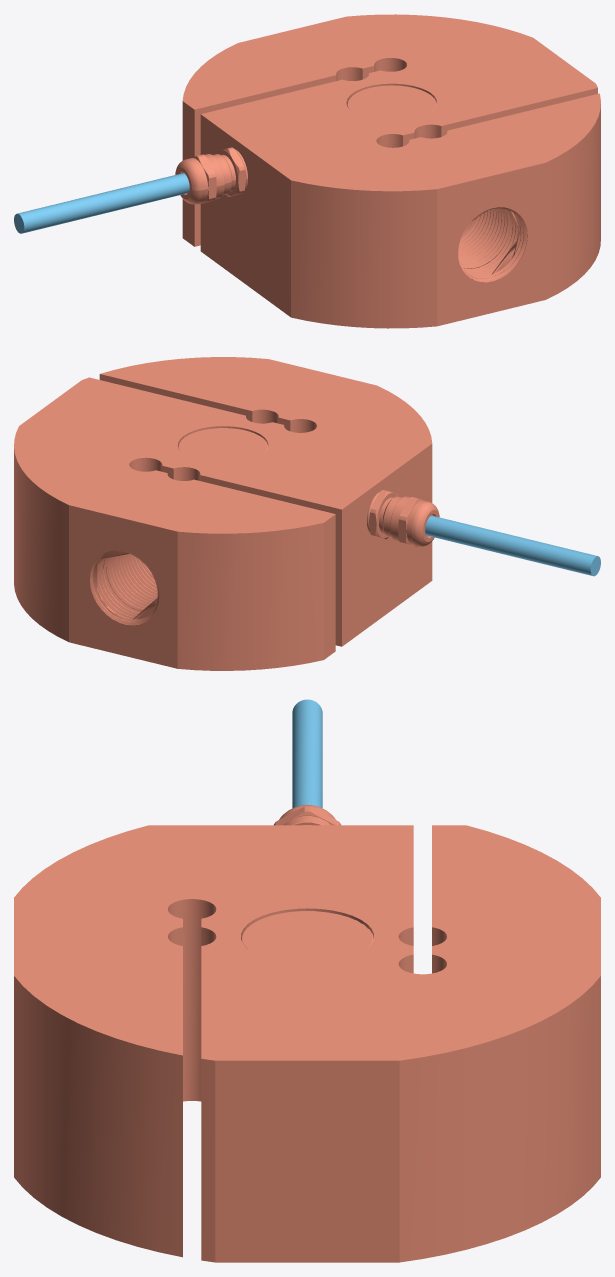
File: f2e2ad5f-9e86-467b-971f-ca47c4a41caa.glb
The picture shows the model from 3 angles, top to bottom: view 1: azimuth 30°, elevation 25°; view 2: azimuth 150°, elevation 25°; view 3: azimuth 270°, elevation 25°; orthographic projection. The views are drawn at different scales.
Visible parts, largest first — view 1: STEP_Part_0, STEP_Part_1; view 2: STEP_Part_0, STEP_Part_1; view 3: STEP_Part_0, STEP_Part_1.
Part boxes in pixels (<box>): STEP_Part_0: <box>175,14,600,328</box>; STEP_Part_1: <box>14,173,189,233</box>; STEP_Part_0: <box>14,357,439,670</box>; STEP_Part_1: <box>425,515,600,576</box>; STEP_Part_0: <box>14,805,600,1262</box>; STEP_Part_1: <box>292,699,322,808</box>.
Size of the model in its own units: 229 by 55 by 145.
